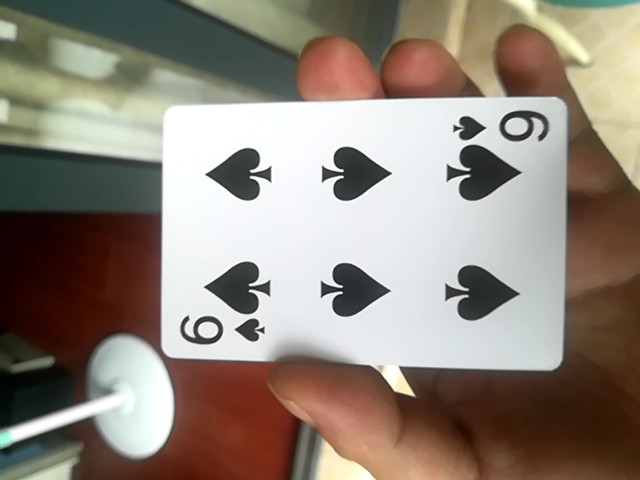ht 6: (152, 91, 576, 380)
